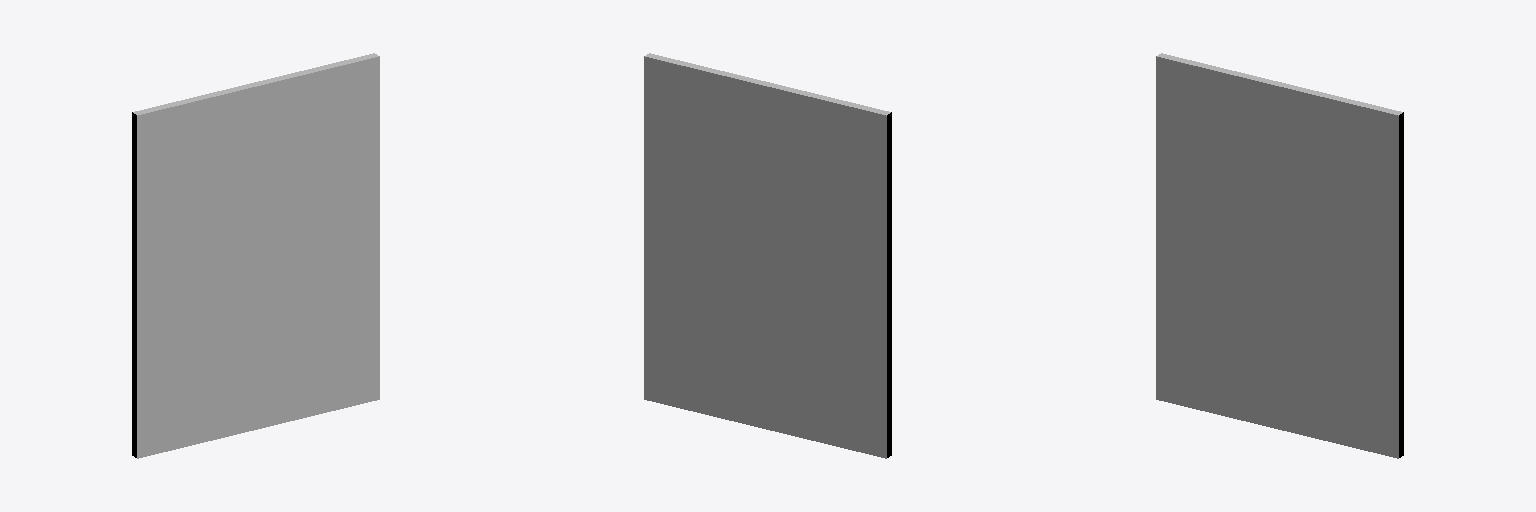
File: puertaCuatro.obj
3 views of the same model, side by side, from view 1: azimuth 30°, elevation 25°; view 2: azimuth 150°, elevation 25°; view 3: azimuth 330°, elevation 25° (orthographic).
Visible parts, largest first — view 1: pasted__pasted__FachadaFinal_pasted__pCube5group17 group13; view 2: pasted__pasted__FachadaFinal_pasted__pCube5group17 group13; view 3: pasted__pasted__FachadaFinal_pasted__pCube5group17 group13.
Part boxes in pixels (bbox=[...]): pasted__pasted__FachadaFinal_pasted__pCube5group17 group13: bbox=[132, 53, 379, 458]; pasted__pasted__FachadaFinal_pasted__pCube5group17 group13: bbox=[644, 53, 891, 458]; pasted__pasted__FachadaFinal_pasted__pCube5group17 group13: bbox=[1156, 53, 1403, 458].
Bounding box in the file's own units: 2.41 × 3.26 × 0.08.